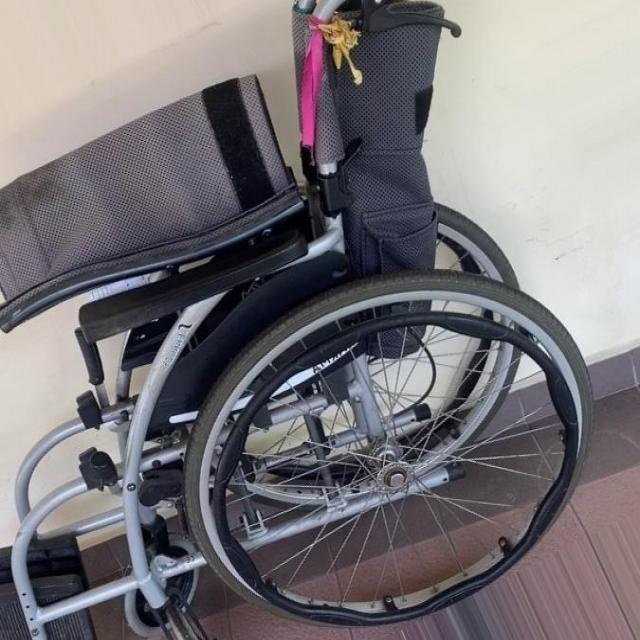wheelchair: (4, 0, 596, 640)
